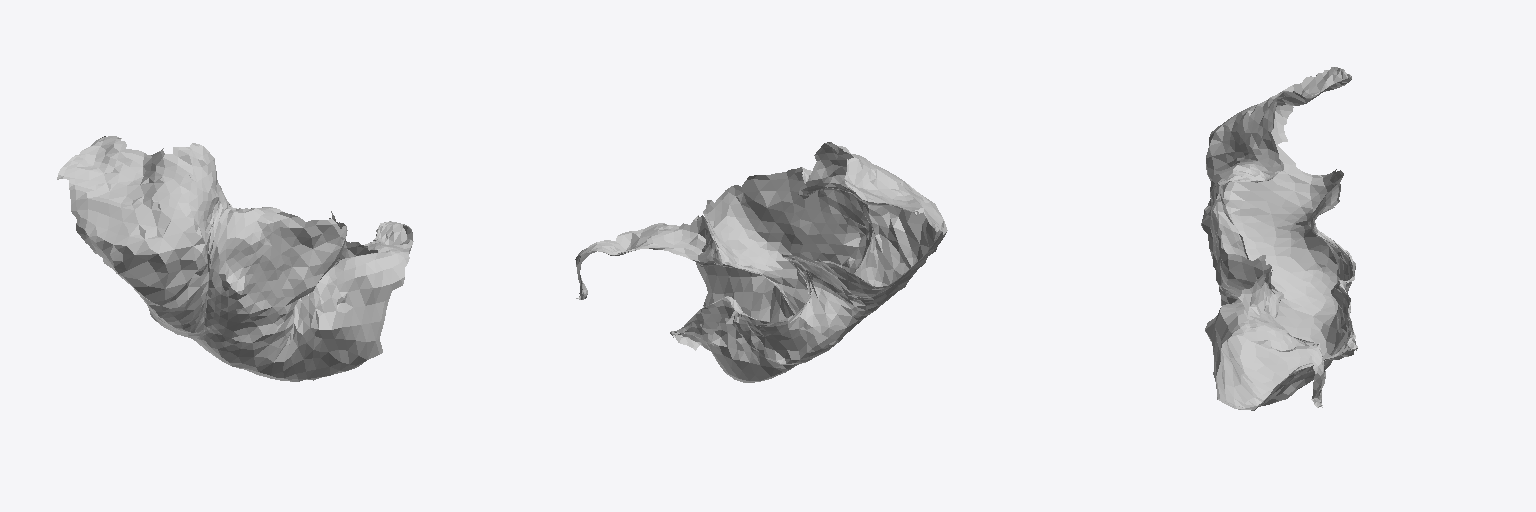
Rendered from R_occipital_inferior.obj.
3 views of the same model, side by side, from view 1: azimuth 30°, elevation 25°; view 2: azimuth 150°, elevation 25°; view 3: azimuth 270°, elevation 25° (orthographic).
Visible parts, largest first — view 1: R_occipital_inferior_L_occipital_inferior; view 2: R_occipital_inferior_L_occipital_inferior; view 3: R_occipital_inferior_L_occipital_inferior.
Part boxes in pixels (left/top/right/bottom): R_occipital_inferior_L_occipital_inferior: left=57, top=136, right=413, bottom=381; R_occipital_inferior_L_occipital_inferior: left=575, top=142, right=947, bottom=382; R_occipital_inferior_L_occipital_inferior: left=1201, top=67, right=1357, bottom=410.
Size of the model in its own units: 155 by 109 by 60.29.